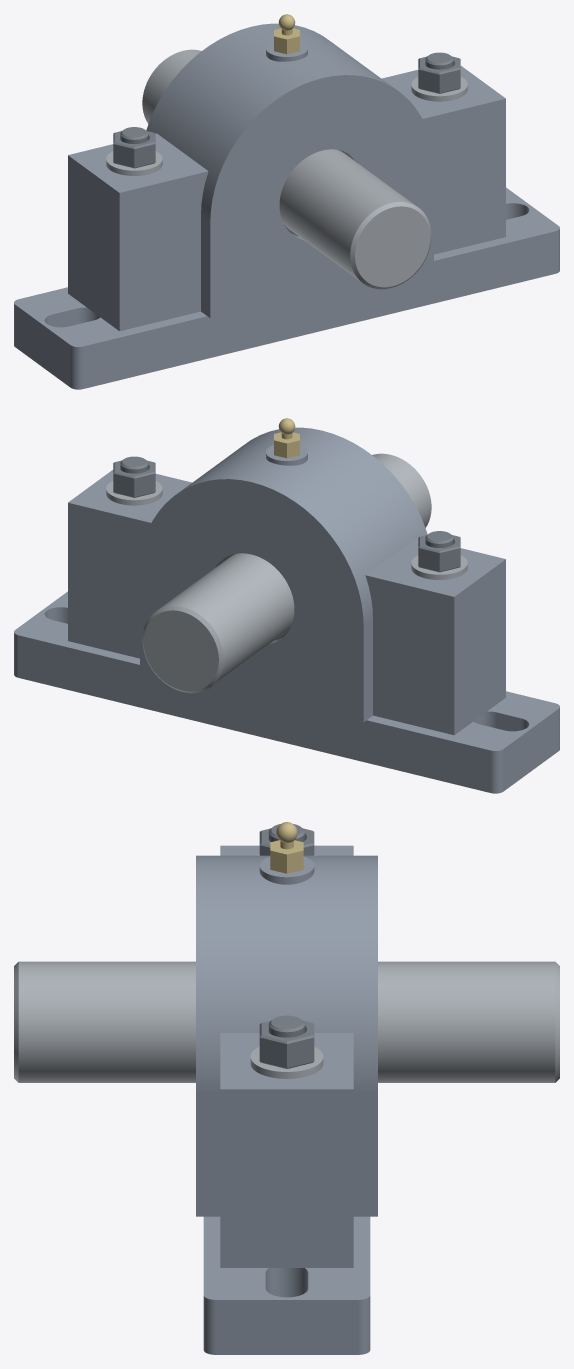
File: step_27.glb
3 renders of one model, top to bottom at view 1: azimuth 30°, elevation 25°; view 2: azimuth 150°, elevation 25°; view 3: azimuth 270°, elevation 25°, orthographic. The views are drawn at different scales.
Parts seen in each view (by area): view 1: part__housing base, part__housing cap, part__shaft, part__nut 1, part__nut 2, part__grease nipple M6, part__washer 1, part__washer 2; view 2: part__housing base, part__housing cap, part__shaft, part__nut 1, part__nut 2, part__grease nipple M6, part__washer 1, part__washer 2; view 3: part__housing cap, part__shaft, part__housing base, part__nut 1, part__grease nipple M6, part__washer 1, part__stud 1.
Part boxes in pixels (x1,y1,x2,y2): part__housing base: (14, 141, 559, 389); part__housing cap: (68, 23, 505, 235); part__shaft: (142, 49, 431, 289); part__nut 1: (418, 56, 460, 93); part__nut 2: (113, 131, 155, 168); part__grease nipple M6: (274, 14, 299, 54); part__washer 1: (411, 77, 467, 101); part__washer 2: (106, 151, 162, 175); part__housing base: (14, 545, 559, 793); part__housing cap: (68, 427, 505, 639); part__shaft: (142, 453, 431, 693); part__nut 1: (113, 460, 155, 497); part__nut 2: (418, 535, 460, 572); part__grease nipple M6: (274, 418, 299, 458); part__washer 1: (106, 481, 162, 505); part__washer 2: (411, 555, 467, 579); part__housing cap: (196, 845, 377, 1144); part__shaft: (14, 961, 559, 1082); part__housing base: (196, 1093, 377, 1354); part__nut 1: (259, 1020, 314, 1068); part__grease nipple M6: (270, 822, 303, 873); part__washer 1: (250, 1046, 323, 1078); part__stud 1: (268, 1015, 305, 1037).
Size of the model in its own units: 240 by 138 by 180.
